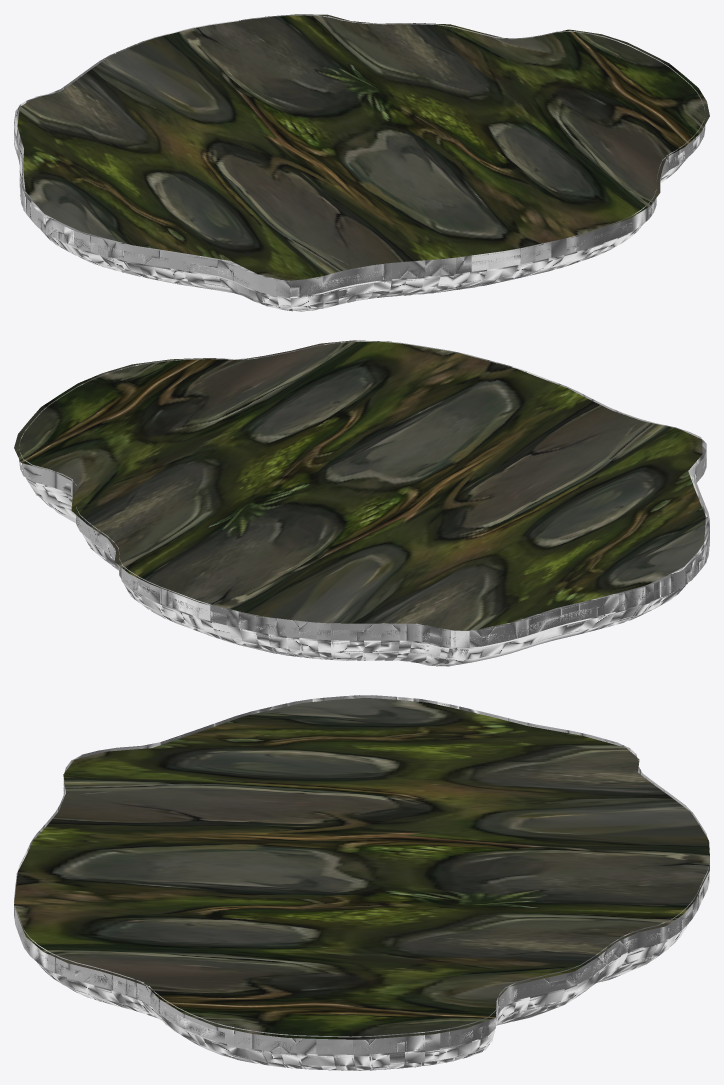
The model's file is Temple Island.glb.
3 renders of one model, top to bottom at view 1: azimuth 30°, elevation 25°; view 2: azimuth 150°, elevation 25°; view 3: azimuth 270°, elevation 25°, orthographic. The views are drawn at different scales.
Parts seen in each view (by area): view 1: Surface, Base; view 2: Surface, Base; view 3: Surface, Base.
Boxes of the visible parts, x1=… form: Surface: x1=17, y1=14, x2=709, y2=280; Base: x1=14, y1=14, x2=705, y2=311; Surface: x1=14, y1=340, x2=705, y2=630; Base: x1=19, y1=340, x2=709, y2=666; Surface: x1=14, y1=698, x2=709, y2=1039; Base: x1=14, y1=695, x2=709, y2=1070.
Size of the model in its own units: 2.25 by 0.3732 by 1.92.
2 materials, 1 textured.
